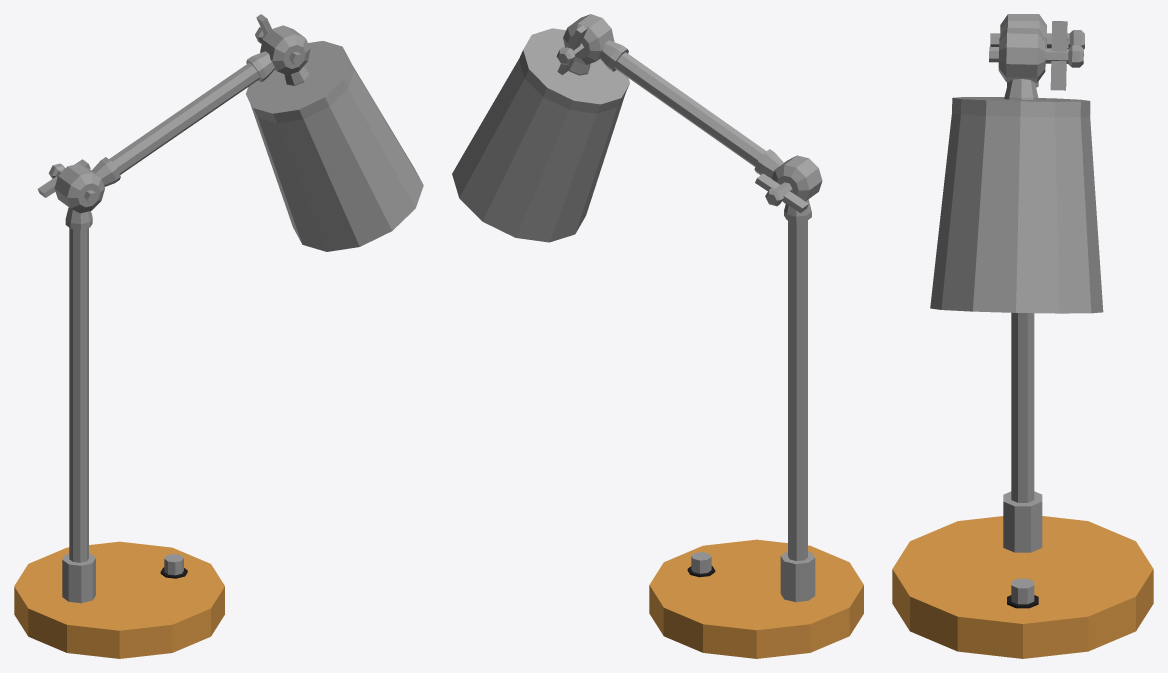
The model's file is lamp.glb.
3 renders of one model, left to right at view 1: azimuth 30°, elevation 25°; view 2: azimuth 150°, elevation 25°; view 3: azimuth 270°, elevation 25°, orthographic. The views are drawn at different scales.
Parts seen in each view (by area): view 1: group1491648249, group2132285159, group903673691, group1076982204, group1115221507; view 2: group1491648249, group2132285159, group903673691, group1115221507, group1076982204; view 3: group1491648249, group2132285159, group903673691, group1115221507, group1076982204, group247553634, group644361083.
Boxes of the visible parts, bbox=[...] form: group1491648249: bbox=[92, 14, 423, 251]; group2132285159: bbox=[14, 541, 224, 658]; group903673691: bbox=[69, 228, 88, 562]; group1076982204: bbox=[54, 163, 104, 213]; group1115221507: bbox=[62, 553, 95, 603]; group1491648249: bbox=[452, 14, 783, 242]; group2132285159: bbox=[649, 539, 863, 658]; group903673691: bbox=[788, 220, 807, 560]; group1115221507: bbox=[780, 551, 815, 602]; group1076982204: bbox=[771, 155, 822, 203]; group1491648249: bbox=[930, 21, 1103, 313]; group2132285159: bbox=[892, 516, 1153, 658]; group903673691: bbox=[1011, 312, 1034, 502]; group1115221507: bbox=[1003, 491, 1042, 552]; group1076982204: bbox=[1000, 14, 1046, 48]; group247553634: bbox=[1011, 578, 1034, 604]; group644361083: bbox=[990, 30, 1084, 48].
Bounding box in the file's own units: 1.43 × 1.95 × 0.68.
